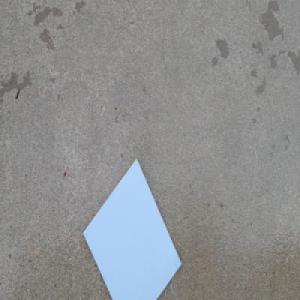PaintChip: (82, 157, 182, 300)
